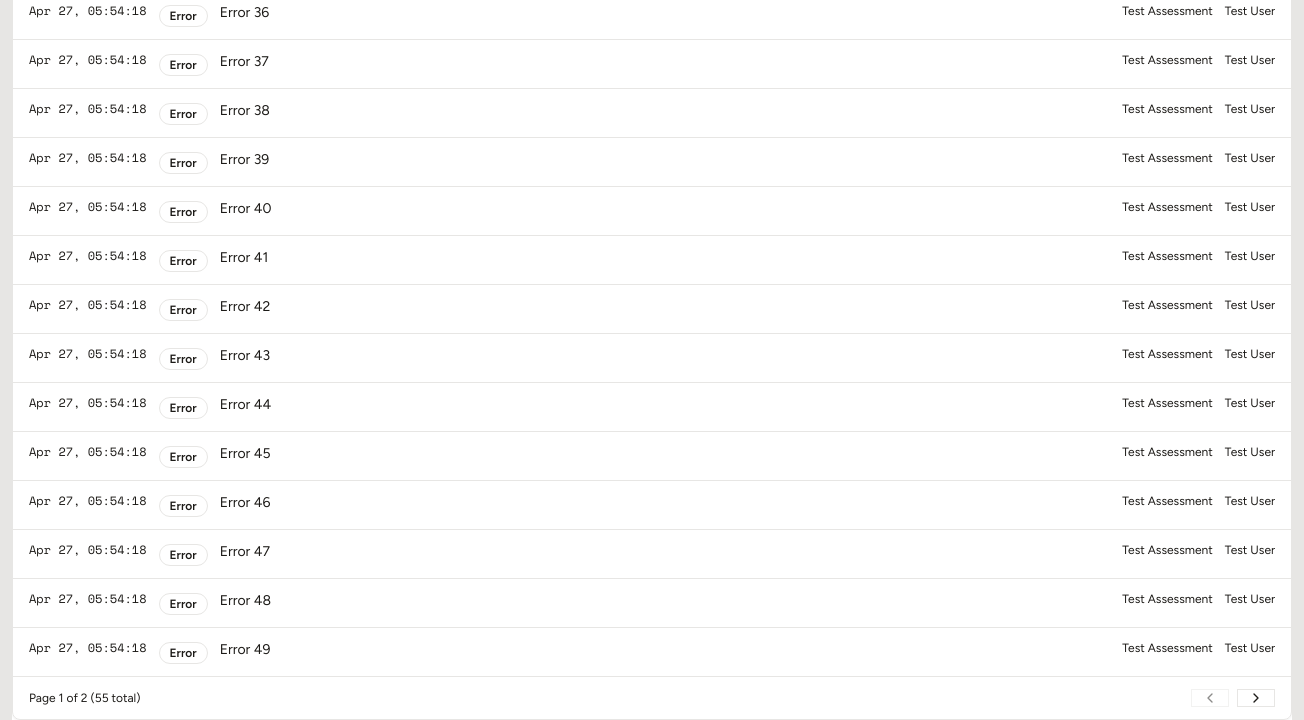
ErrorDashboardClient › navigates pages when pagination buttons are clicked
(page scrolled)
Click the 2nd button.
click(1256, 698)  # box [1237,689,1275,707]
(page scrolled)
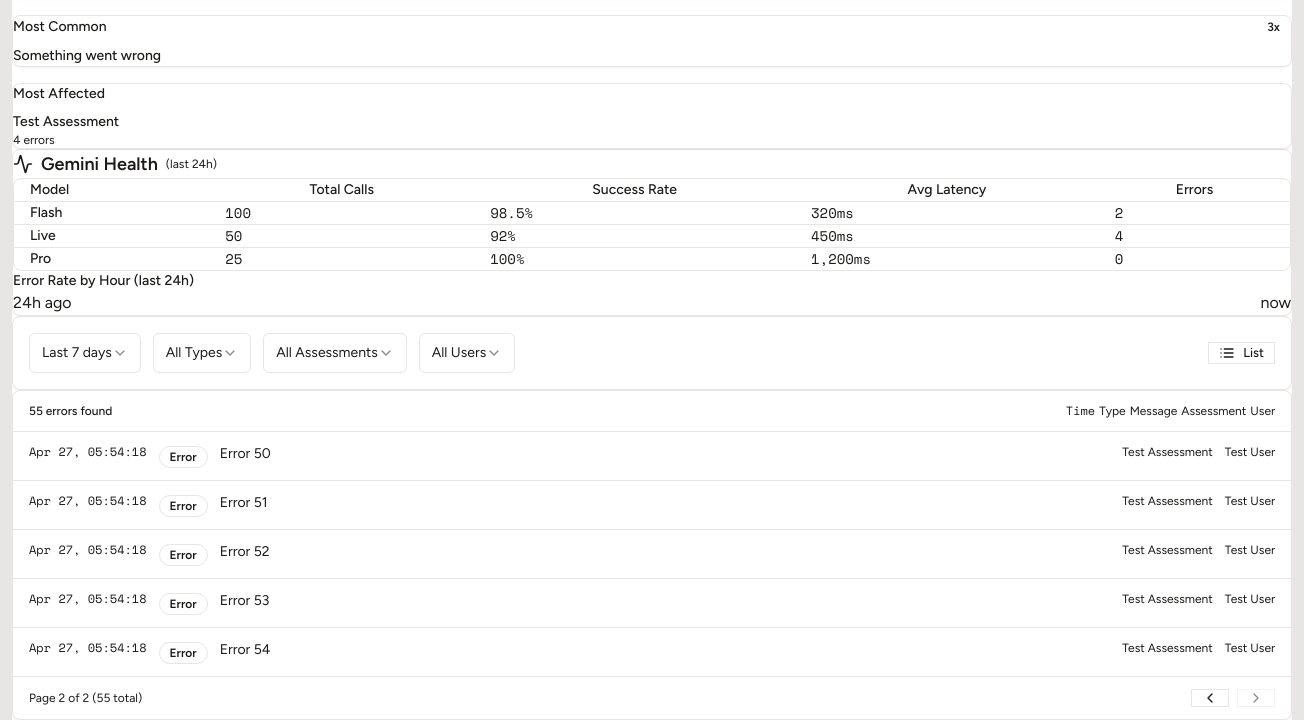
expect the text "Page 2 of 2 (55 total)" is shown: met, box [29,690,142,706]
